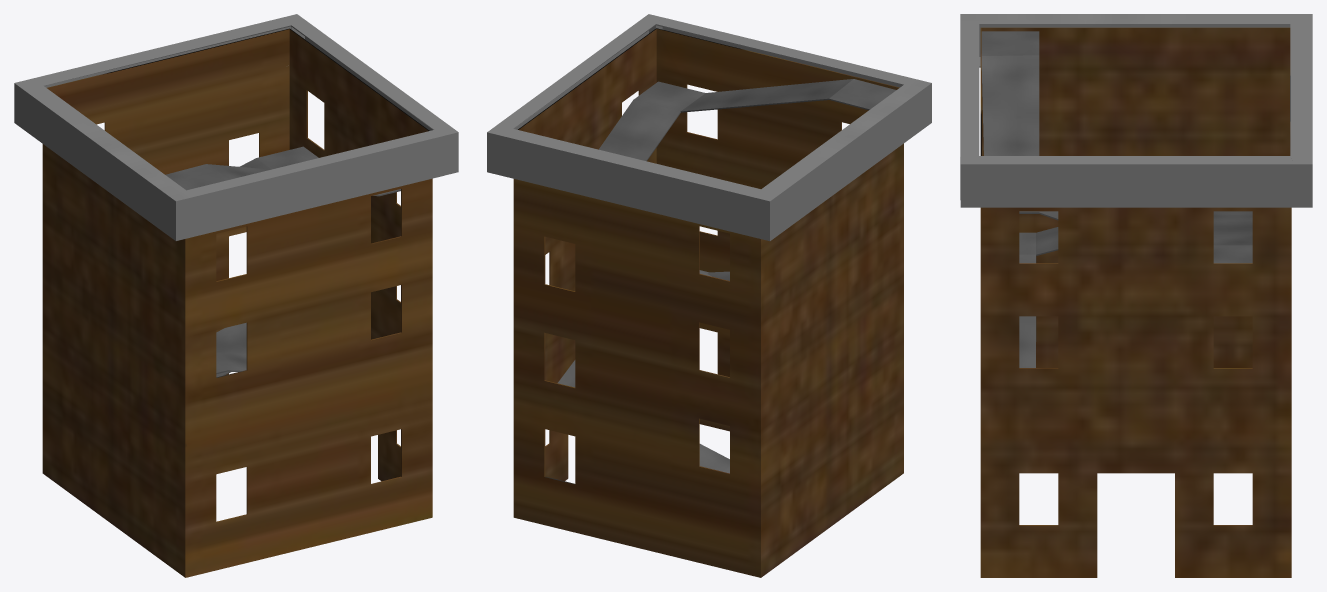
File: building2.dae
3 renders of one model, left to right at view 1: azimuth 30°, elevation 25°; view 2: azimuth 150°, elevation 25°; view 3: azimuth 270°, elevation 25°, orthographic. The views are drawn at different scales.
Parts seen in each view (by area): view 1: Cube; view 2: Cube; view 3: Cube.
Part boxes in pixels (x1,y1,x2,y2): Cube: [14, 14, 458, 577]; Cube: [487, 14, 931, 577]; Cube: [960, 14, 1312, 577].
Size of the model in its own units: 2.57 by 2.54 by 3.37.
1 material, 1 textured.
